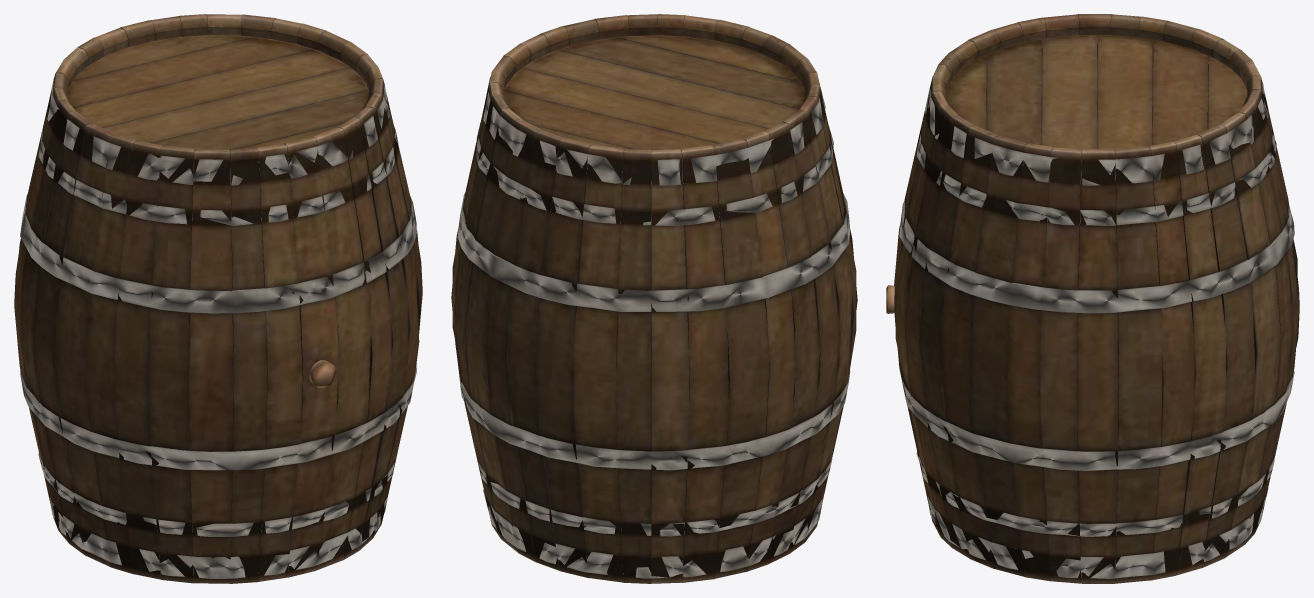
File: wine_barrel_01.glb
The picture shows the model from 3 angles, left to right: view 1: azimuth 30°, elevation 25°; view 2: azimuth 150°, elevation 25°; view 3: azimuth 270°, elevation 25°; orthographic projection.
Parts seen in each view (by area): view 1: wine_barrel_01_Lid; view 2: wine_barrel_01_Lid; view 3: wine_barrel_01_Lid.
Part boxes in pixels (box(x1,y1,x2,y2)): wine_barrel_01_Lid: box(14, 14, 422, 583); wine_barrel_01_Lid: box(451, 14, 857, 583); wine_barrel_01_Lid: box(886, 14, 1299, 583).
Bounding box in the file's own units: 0.7419 × 0.8713 × 0.7554.
Materials: 1 (1 with a texture image).
